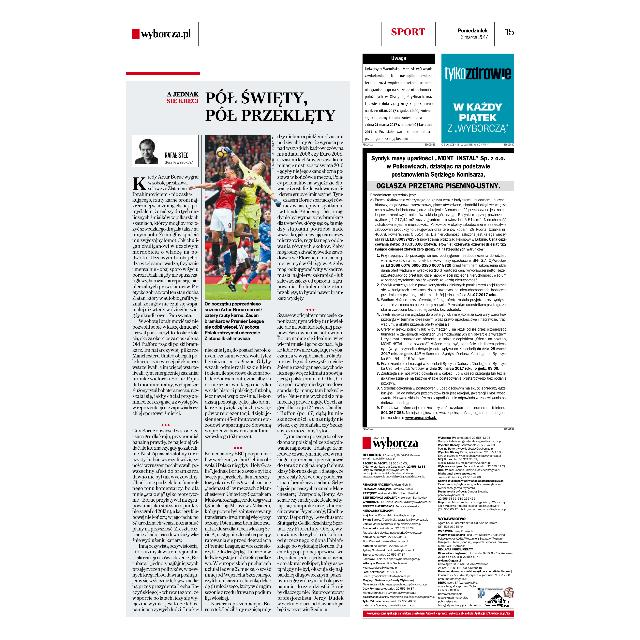article: (124, 68, 350, 618)
